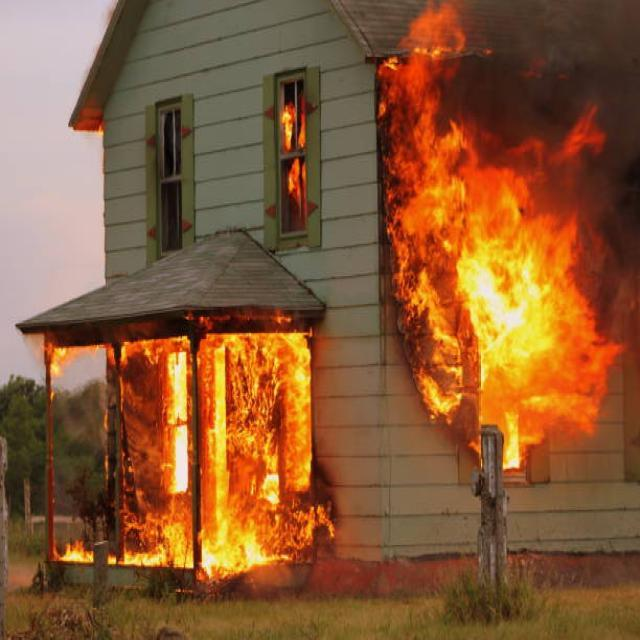Fire: (388, 29, 619, 450), (191, 329, 313, 573), (120, 340, 200, 556), (283, 98, 314, 278)
Smoke: (447, 0, 640, 270)
